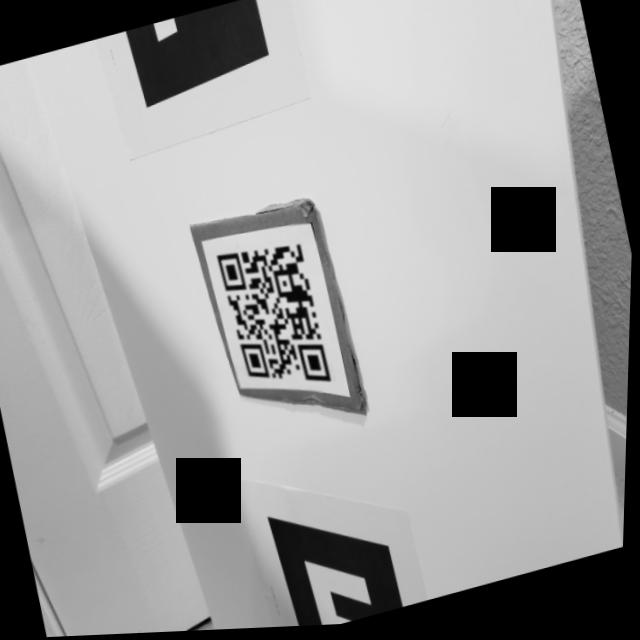QR_CODE: (207, 221, 349, 418)
